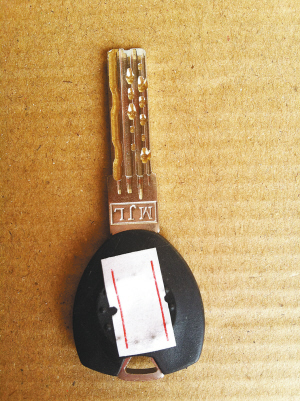key: (62, 42, 213, 385)
